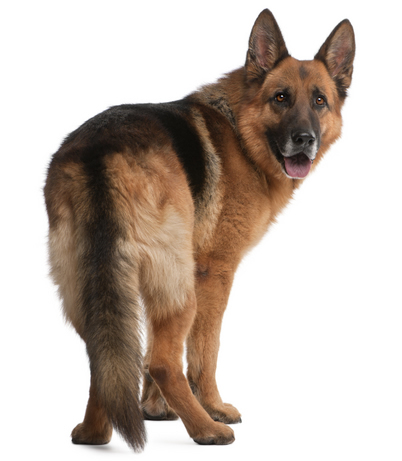dog: (40, 8, 356, 446)
